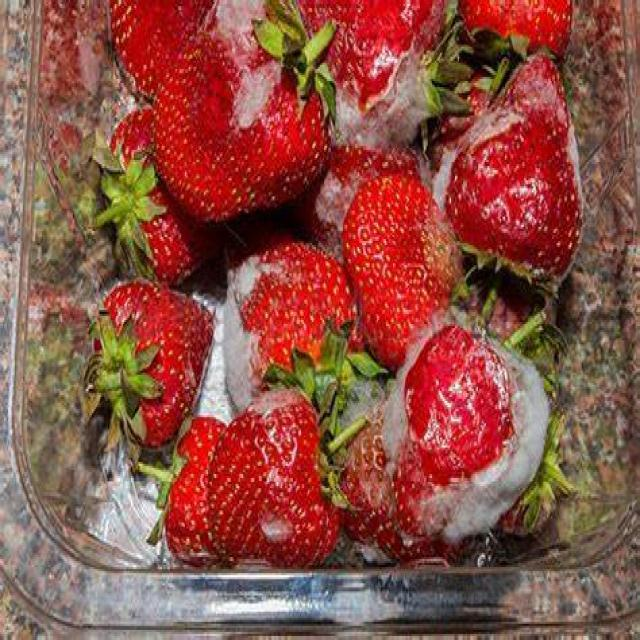Fruta sana: (152, 397, 233, 566)
Moho gris: (152, 2, 333, 222), (392, 314, 552, 557), (438, 52, 594, 286), (210, 250, 368, 416), (204, 373, 338, 557), (308, 0, 446, 164), (98, 285, 223, 427), (312, 361, 406, 542), (317, 150, 428, 225)
